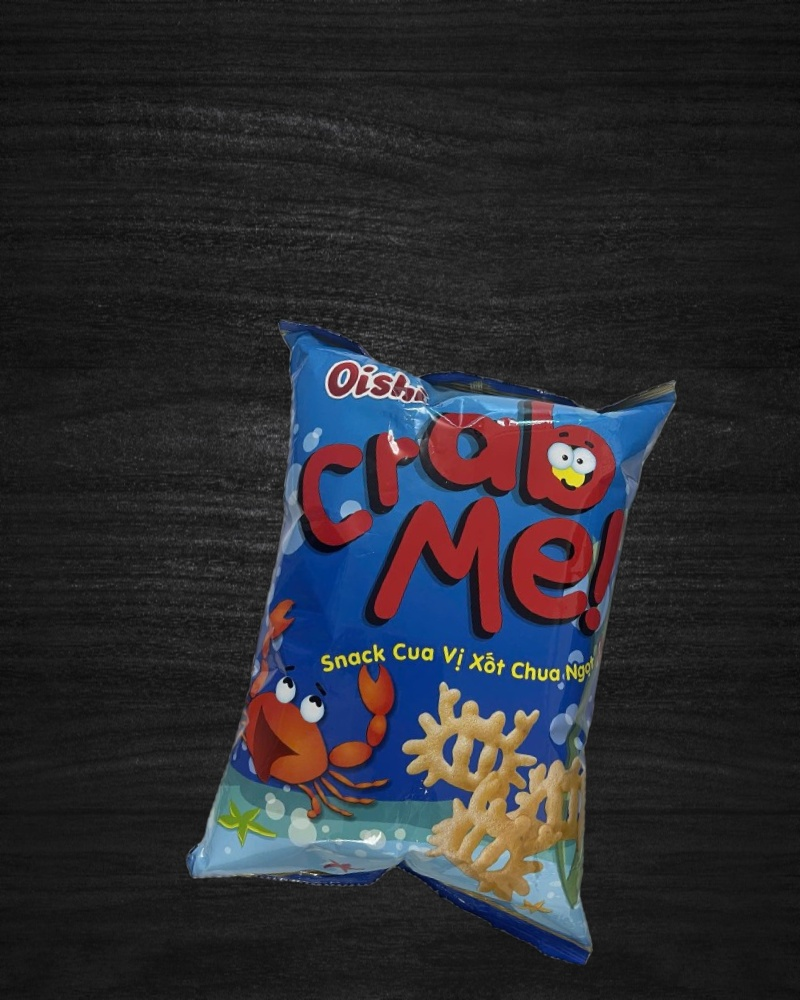Snack cua: (179, 311, 693, 961)
